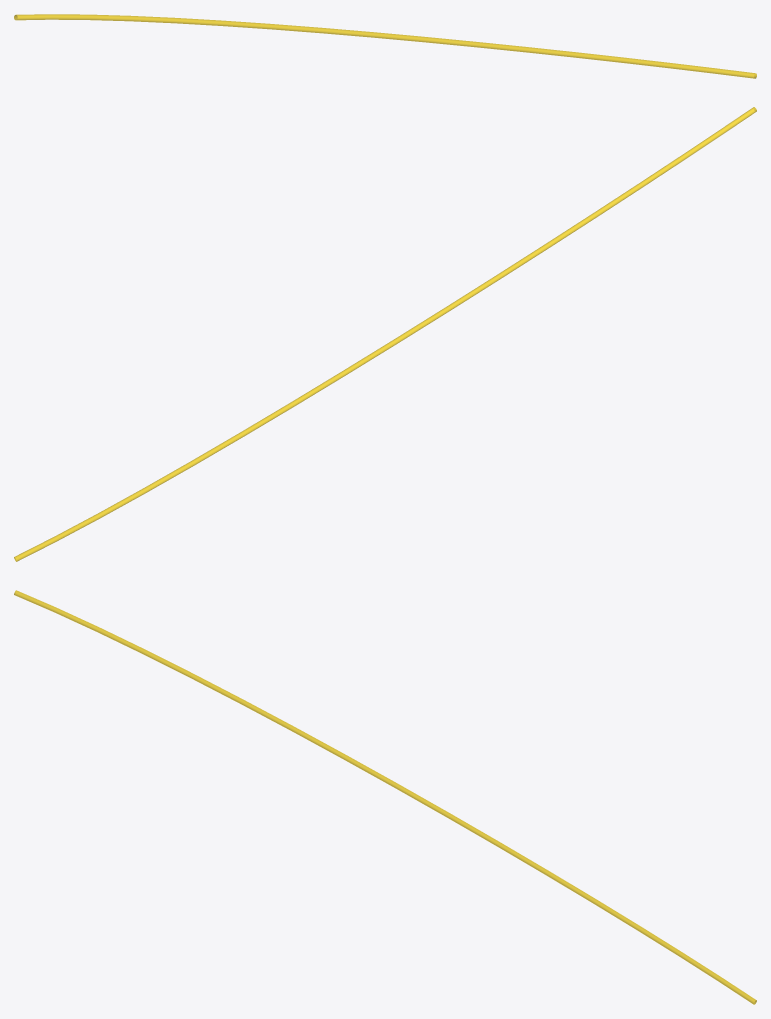
The model's file is Event_419990632_track_10.fbx.
3 views of the same model, one above another, from view 1: azimuth 30°, elevation 25°; view 2: azimuth 210°, elevation 25°; view 3: azimuth 330°, elevation 25° (orthographic). The views are drawn at different scales.
Visible parts, largest first — view 1: Model; view 2: Model; view 3: Model.
Boxes of the visible parts, left/top/right/bottom form: Model: left=14, top=14, right=756, bottom=78; Model: left=14, top=107, right=756, bottom=561; Model: left=14, top=590, right=756, bottom=1004.
Bounding box in the file's own units: 6.31 × 2.06 × 0.3537.
